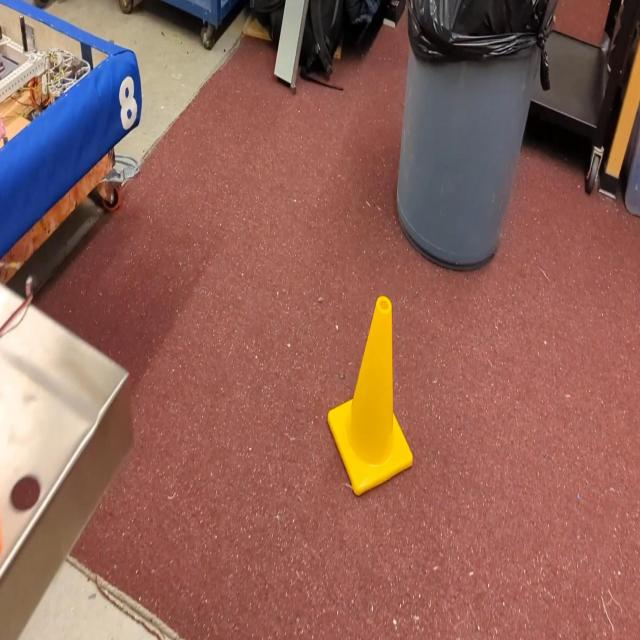frc_cone: (328, 294, 412, 497)
